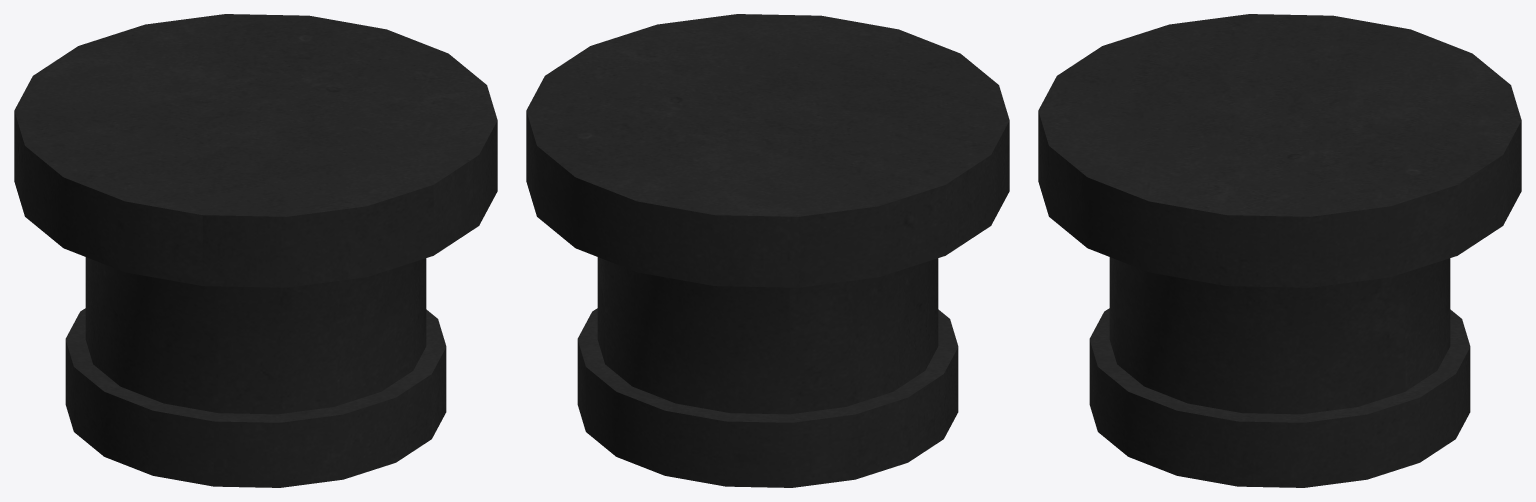
The model's file is SM_硫酸盖.fbx.
The picture shows the model from 3 angles, left to right: view 1: azimuth 30°, elevation 25°; view 2: azimuth 150°, elevation 25°; view 3: azimuth 270°, elevation 25°; orthographic projection.
Parts seen in each view (by area): view 1: SM_硫酸盖; view 2: SM_硫酸盖; view 3: SM_硫酸盖.
Boxes of the visible parts, box(x1,y1,x2,y2) form: SM_硫酸盖: box(14, 14, 497, 487); SM_硫酸盖: box(526, 14, 1009, 487); SM_硫酸盖: box(1038, 14, 1521, 487).
Size of the model in its own units: 0.0524 by 0.0353 by 0.0528.
